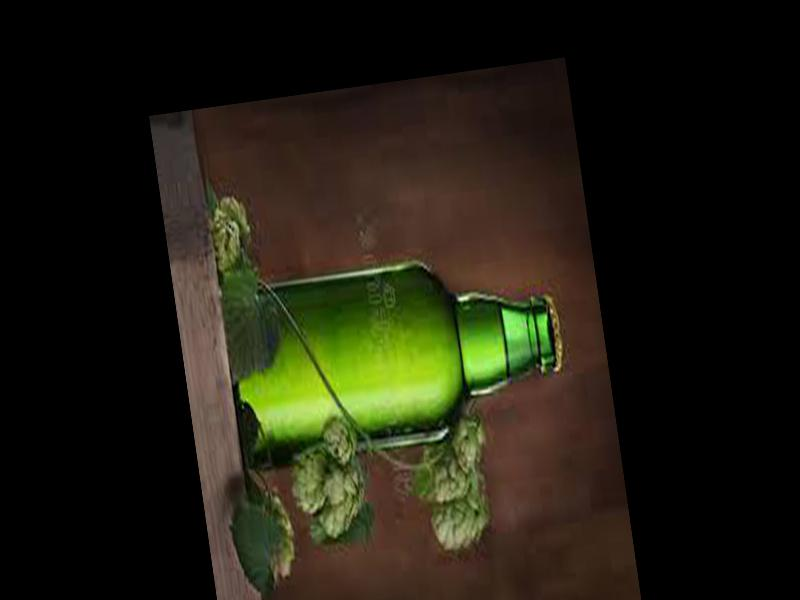Beer: (213, 241, 573, 464)
